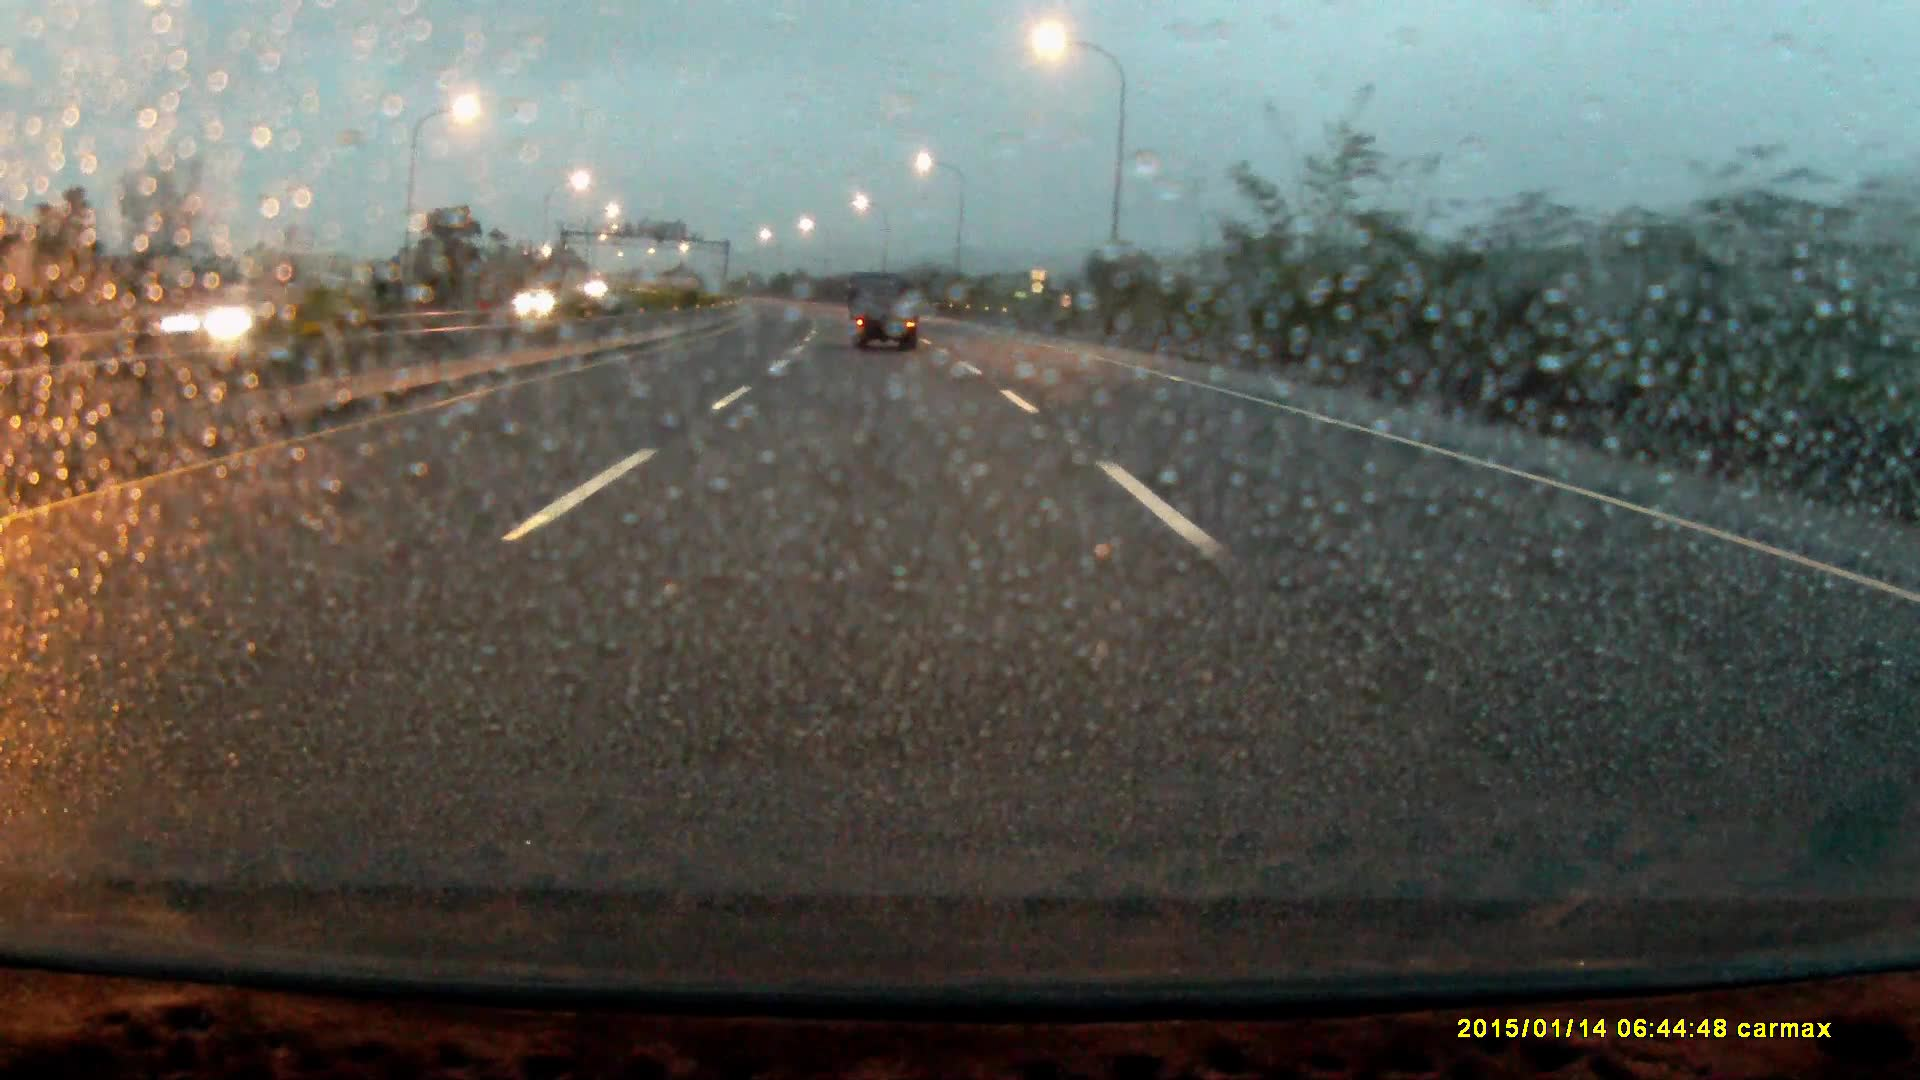vehicle: (847, 273, 919, 352), (513, 291, 574, 320)
